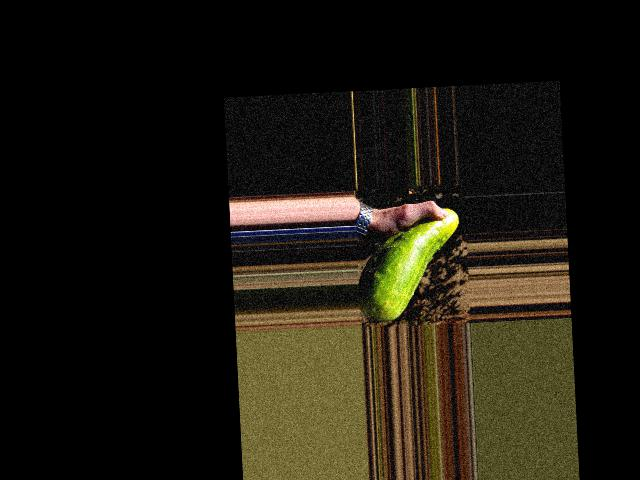cucumber: (354, 207, 463, 324)
